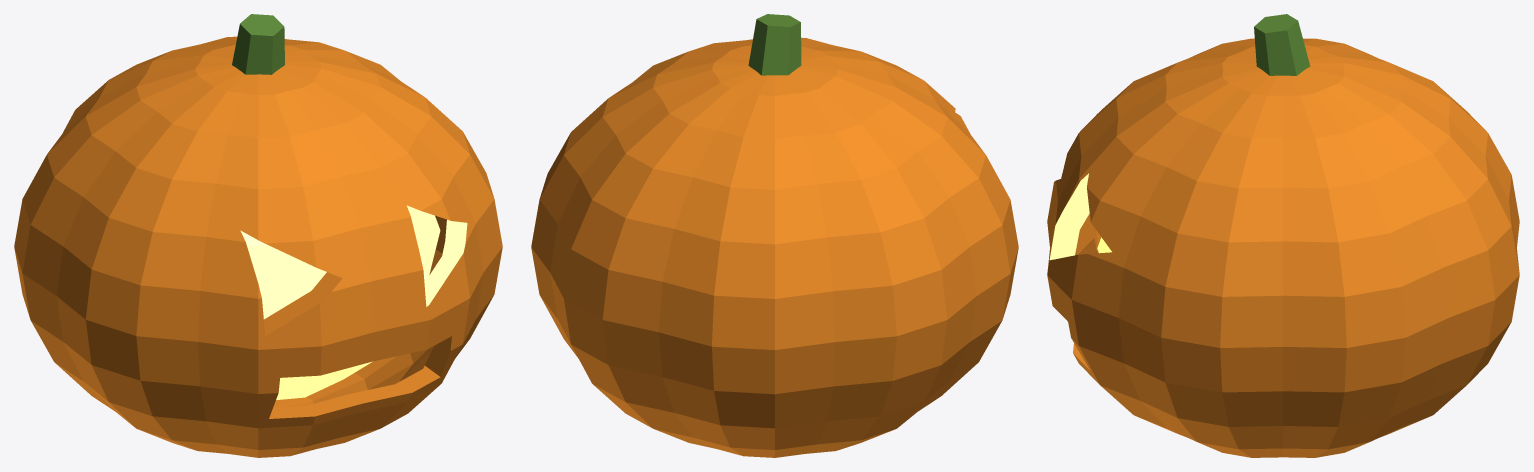
The model's file is hw3d_pumpkin.glb.
3 views of the same model, side by side, from view 1: azimuth 30°, elevation 25°; view 2: azimuth 150°, elevation 25°; view 3: azimuth 270°, elevation 25° (orthographic).
Visible parts, largest first — view 1: hw3d_pumpkin; view 2: hw3d_pumpkin; view 3: hw3d_pumpkin.
Part boxes in pixels (x1,y1,x2,y2): hw3d_pumpkin: [14, 14, 502, 457]; hw3d_pumpkin: [531, 14, 1018, 457]; hw3d_pumpkin: [1047, 14, 1519, 457].
Size of what is drawn, in the model's own units: 0.3806 by 0.3662 by 0.3806.
